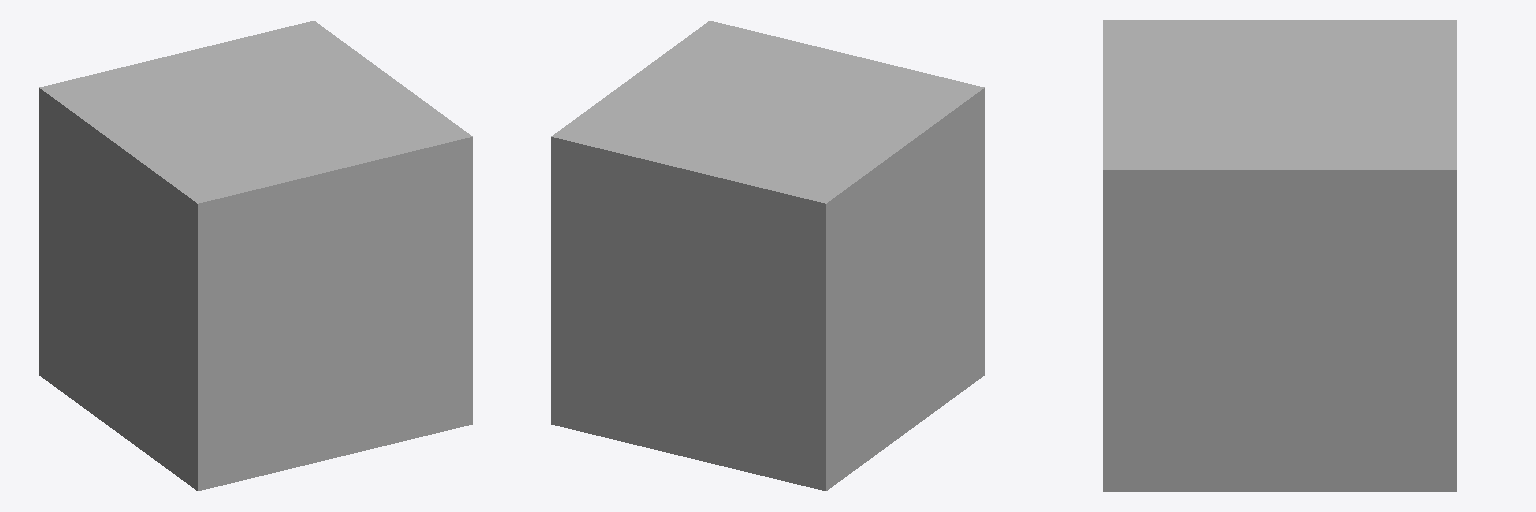
robot.urdf — root:
<robot name="root">
  <link name="link_ycb~cube_b1_convex_piece_0">
    <inertial>
      <origin xyz="0 0 0" rpy="0 0 0"/>
      <mass value="1.08E-01"/>
      <inertia ixx="1.62E-05" ixy="-2.70E-14" ixz="1.35E-10" iyy="1.62E-05" iyz="2.70E-14" izz="1.62E-05"/>
    </inertial>
    <visual>
      <origin xyz="0 0 0" rpy="0 0 0"/>
      <geometry>
        <mesh filename="ycb~cube_b1_convex_piece_0.obj" scale="1.0000E+00 1.0000E+00 1.0000E+00"/>
      </geometry>
      <material name="">
        <color rgba="7.50E-01 7.50E-01 7.50E-01 1"/>
      </material>
    </visual>
    <collision>
      <origin xyz="0 0 0" rpy="0 0 0"/>
      <geometry>
        <mesh filename="ycb~cube_b1_convex_piece_0.obj" scale="1.0000E+00 1.0000E+00 1.0000E+00"/>
      </geometry>
    </collision>
  </link>
</robot>

--- Facts derived from the render (not from the file) ---
Views: 3 orthographic renders of the robot side by side, from view 1: azimuth 30°, elevation 25°; view 2: azimuth 150°, elevation 25°; view 3: azimuth 270°, elevation 25°.
Model root with 1 links and 0 joints (none), rooted at link_ycb~cube_b1_convex_piece_0, posed every joint at zero.
Links seen in each view (by area): view 1: link_ycb~cube_b1_convex_piece_0; view 2: link_ycb~cube_b1_convex_piece_0; view 3: link_ycb~cube_b1_convex_piece_0.
Boxes of the visible links, left/top/right/bottom form: link_ycb~cube_b1_convex_piece_0: left=39, top=21, right=472, bottom=490; link_ycb~cube_b1_convex_piece_0: left=551, top=21, right=984, bottom=490; link_ycb~cube_b1_convex_piece_0: left=1103, top=20, right=1456, bottom=491.
Size in the robot's own frame: 0.03 by 0.03 by 0.03 metres.
1 mesh visuals loaded from 1 distinct referenced files (1 OBJ).